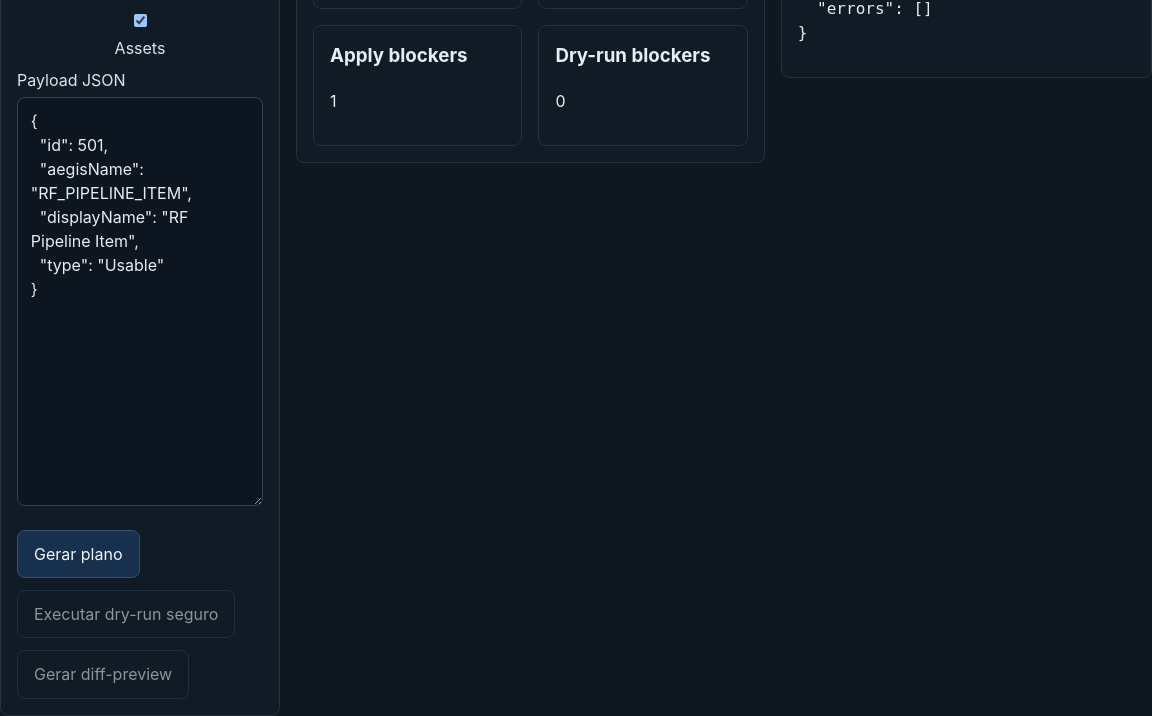
Scenario: ApiPipelineWorkspacePage › runs plan, dry-run and diff-preview without destructive buttons
(page scrolled)
Step 1. Click the button "Gerar plano" → (78, 554), box [17, 530, 140, 578]
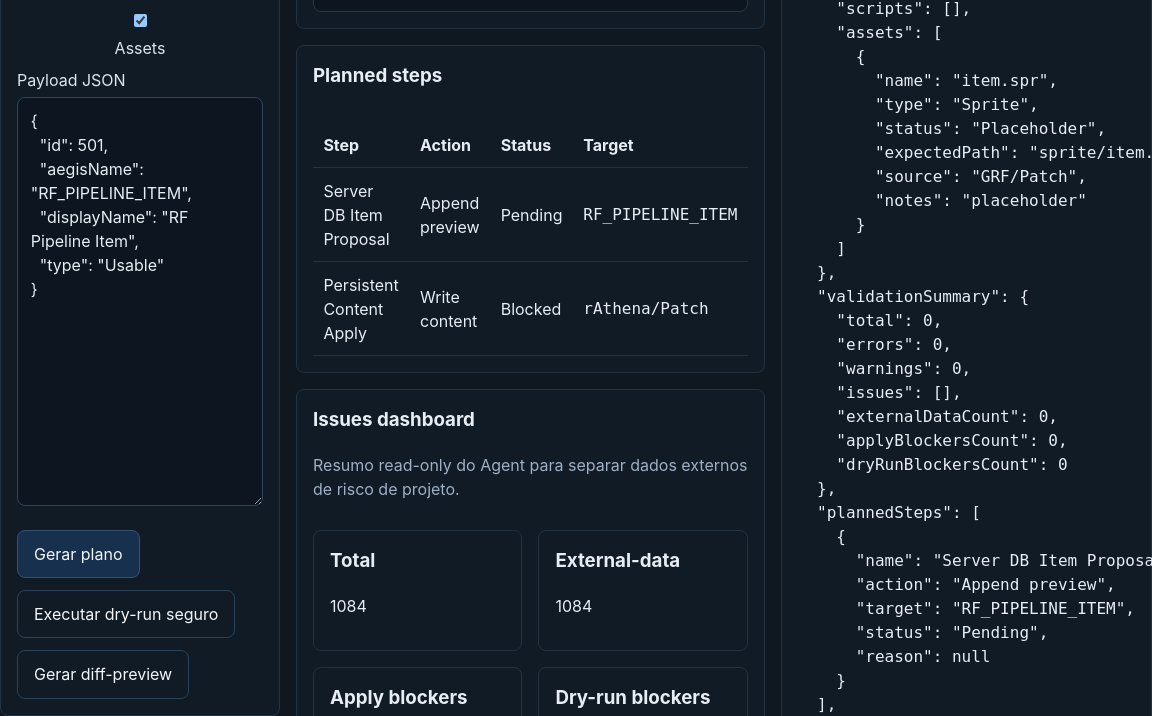
Check: the text "Server DB Item Proposal" is shown, box [313, 168, 410, 262]
Step 2. Click the button "Executar dry-run seguro" → (126, 614), box [17, 590, 235, 638]
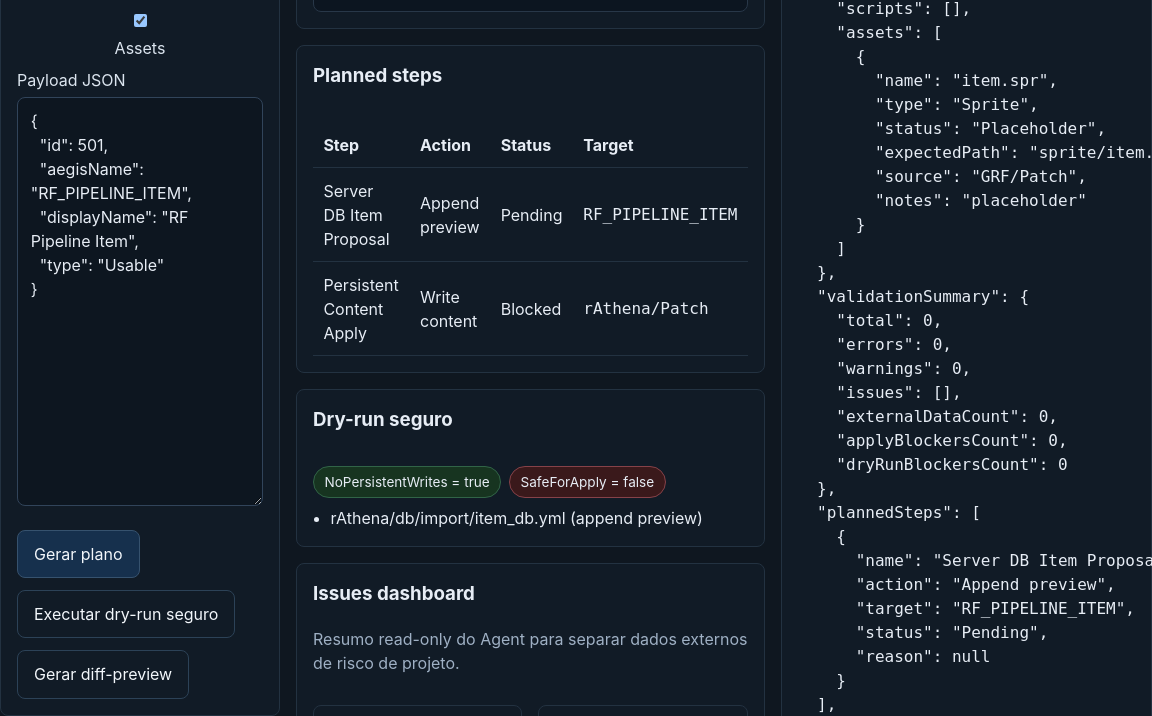
Check: the text "NoPersistentWrites = true" is shown, box [313, 466, 501, 498]
Step 3. Click the button "Gerar diff-preview" → (103, 674), box [17, 650, 189, 699]
(page scrolled)
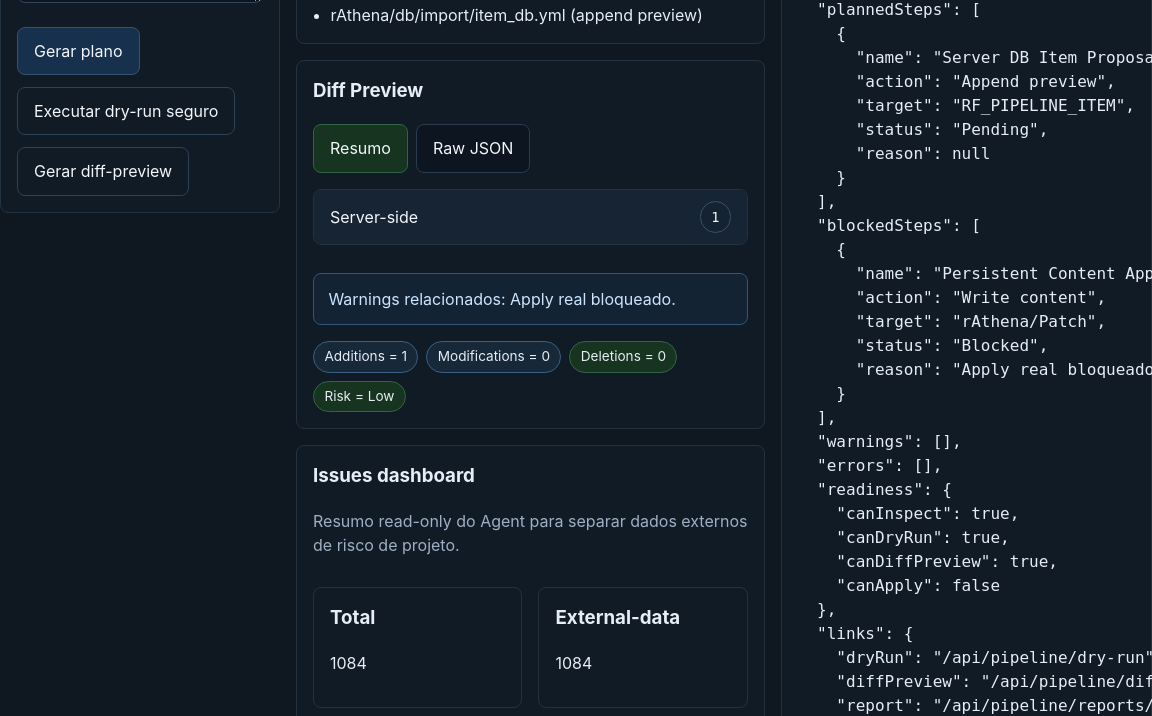
Check: the heading "Diff Preview" is shown, box [313, 77, 423, 106]
Check: the text "Additions = 1" is shown, box [313, 340, 418, 372]
